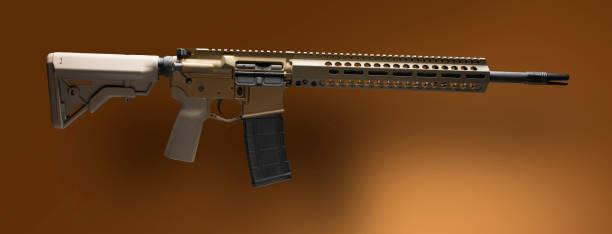larga: (46, 46, 570, 189)
